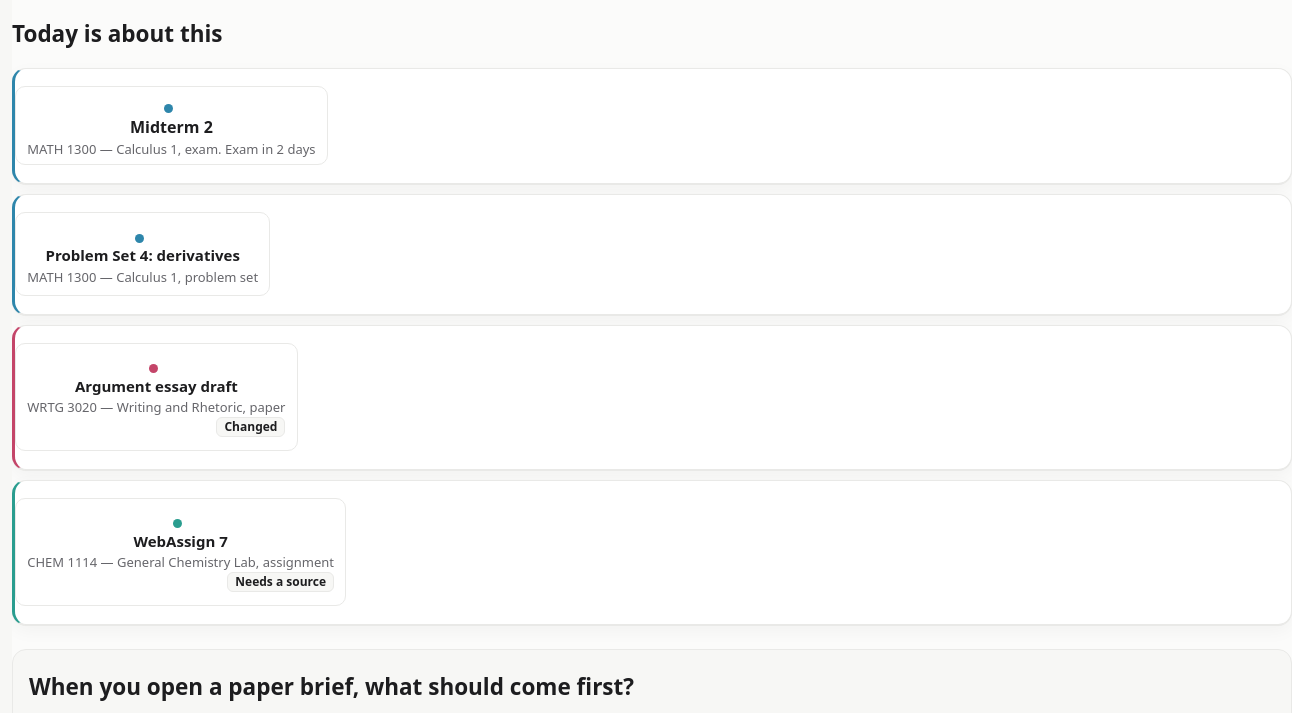
Test: a brief › a malformed brief says the file could not be read
Click the button "Problem Set 4": (143, 254) [15,212,270,296]
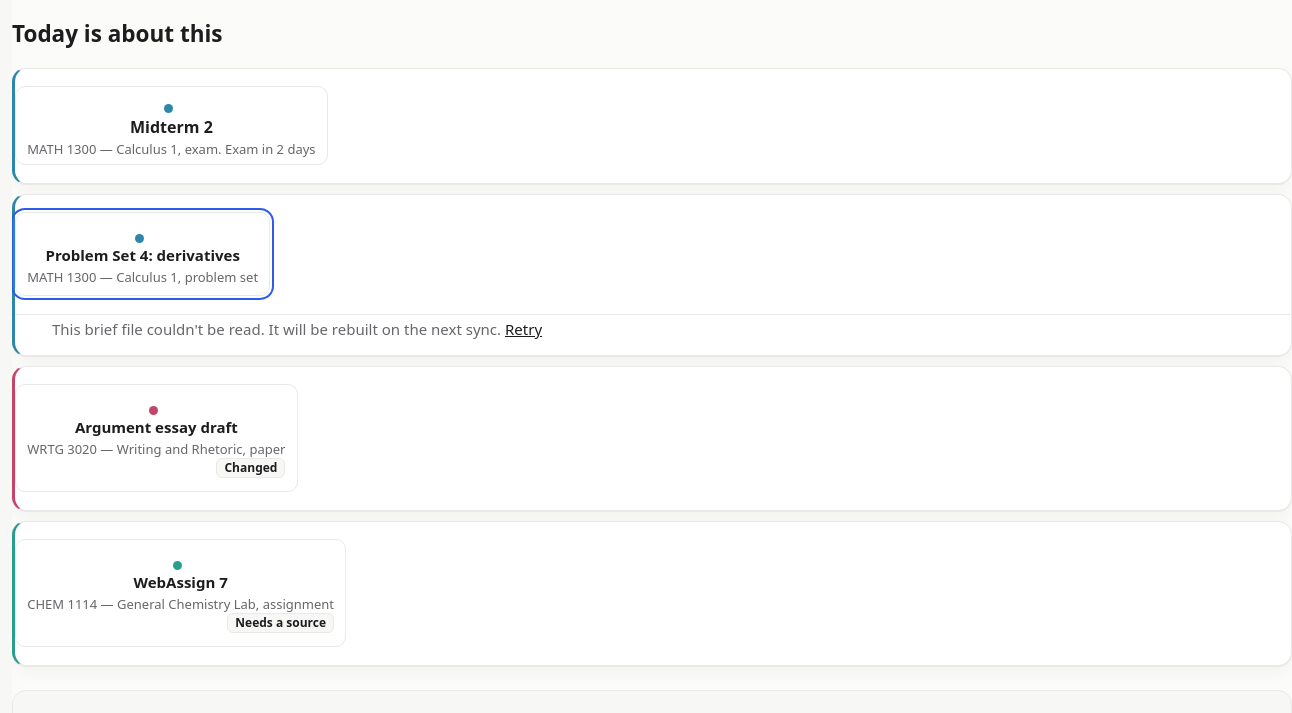
Now the text "couldn't be read" is shown, box [52,319,501,339]
Now the button "Retry" is shown, box [505,319,542,339]
